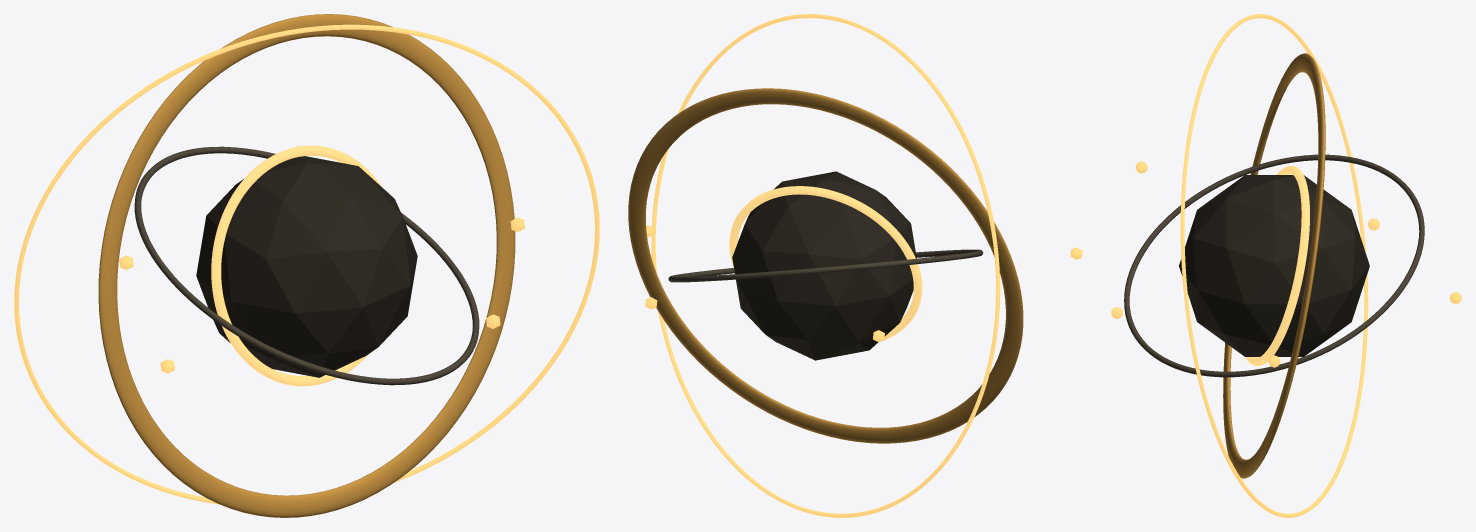
Rendered from hero.glb.
3 views of the same model, side by side, from view 1: azimuth 30°, elevation 25°; view 2: azimuth 150°, elevation 25°; view 3: azimuth 270°, elevation 25° (orthographic). The views are drawn at different scales.
Visible parts, largest first — view 1: Core, RingA, RingC, RingB, Core_Spark; view 2: Core, RingA, RingC, Core_Spark, RingB; view 3: Core, RingA, RingC, RingB, Core_Spark.
Part boxes in pixels (bbox=[...]): Core: bbox=[196, 156, 417, 377]; RingA: bbox=[98, 14, 515, 517]; RingC: bbox=[14, 24, 599, 504]; RingB: bbox=[134, 146, 479, 385]; Core_Spark: bbox=[211, 145, 381, 386]; Core: bbox=[732, 171, 916, 360]; RingA: bbox=[628, 88, 1023, 443]; RingC: bbox=[651, 14, 1000, 517]; Core_Spark: bbox=[729, 186, 922, 340]; RingB: bbox=[668, 249, 983, 282]; Core: bbox=[1179, 175, 1369, 356]; RingA: bbox=[1223, 53, 1325, 478]; RingC: bbox=[1180, 14, 1368, 517]; RingB: bbox=[1124, 154, 1424, 377]; Core_Spark: bbox=[1245, 166, 1309, 365].
Size of the model in its own units: 5.04 by 5.17 by 3.67.
